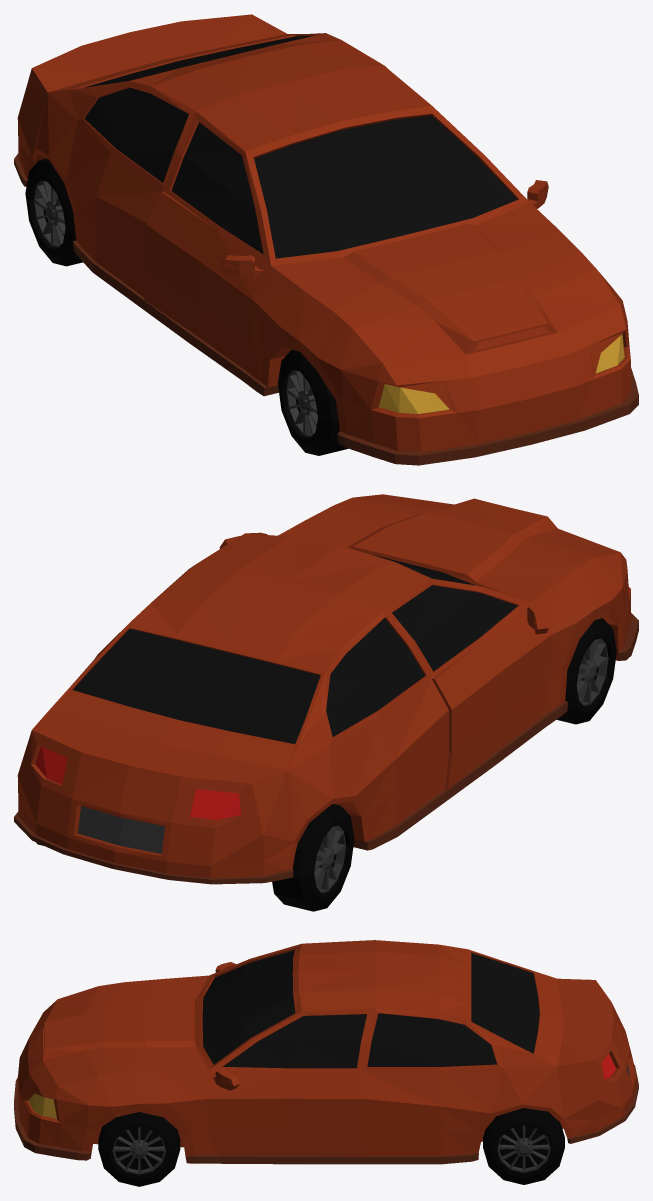
Rendered from SportsCar.obj.
3 renders of one model, top to bottom at view 1: azimuth 30°, elevation 25°; view 2: azimuth 150°, elevation 25°; view 3: azimuth 270°, elevation 25°, orthographic. The views are drawn at different scales.
Parts seen in each view (by area): view 1: SportsCar, SportsCar_FrontRightWheel, SportsCar_BackWheels; view 2: SportsCar, SportsCar_BackWheels, SportsCar_FrontRightWheel; view 3: SportsCar, SportsCar_BackWheels, SportsCar_FrontLeftWheel.
Part boxes in pixels (x1,y1,x2,y2): SportsCar: [14, 14, 638, 465]; SportsCar_FrontRightWheel: [278, 349, 348, 455]; SportsCar_BackWheels: [25, 158, 82, 266]; SportsCar: [14, 494, 638, 884]; SportsCar_BackWheels: [36, 804, 354, 911]; SportsCar_FrontRightWheel: [556, 618, 616, 724]; SportsCar: [14, 940, 638, 1164]; SportsCar_BackWheels: [483, 1108, 564, 1184]; SportsCar_FrontLeftWheel: [98, 1112, 180, 1186].
Bounding box in the file's own units: 1.8 × 1.16 × 3.97.
